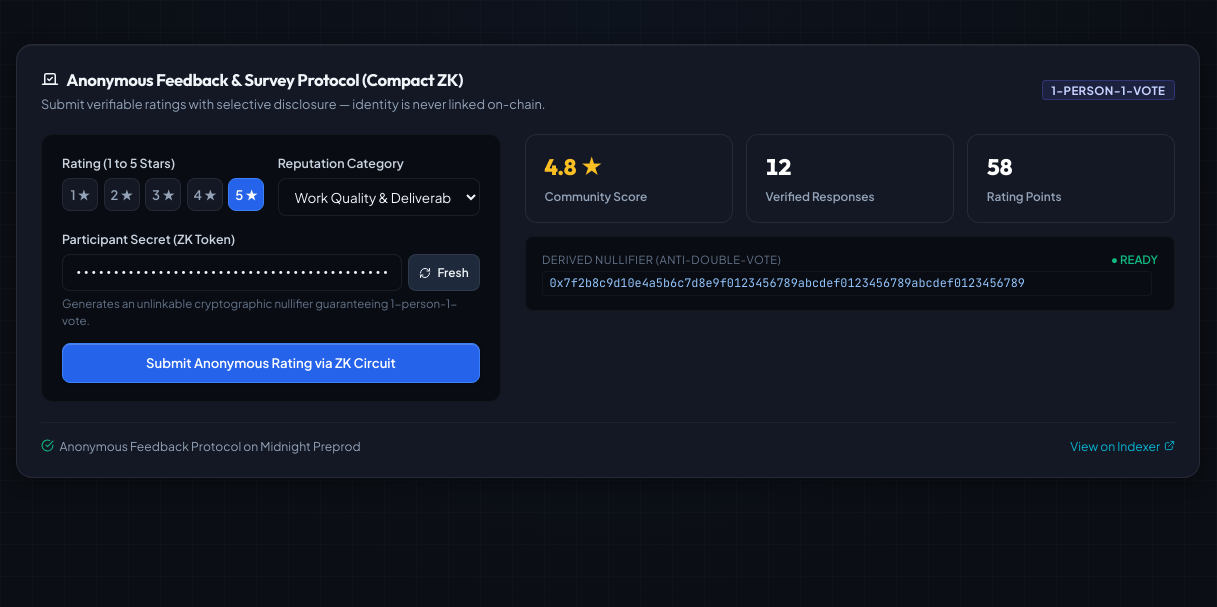
Test: MidnightFeedbackPanel › renders feedback protocol and allows submitting rating with nullifier tracking
Check: the text "Anonymous Feedback & Survey Protocol (Compact ZK)" is shown, box [66,67,463,92]
Click the button "Submit Anonymous Rating via ZK Circuit": (271, 363) [62,343,480,383]
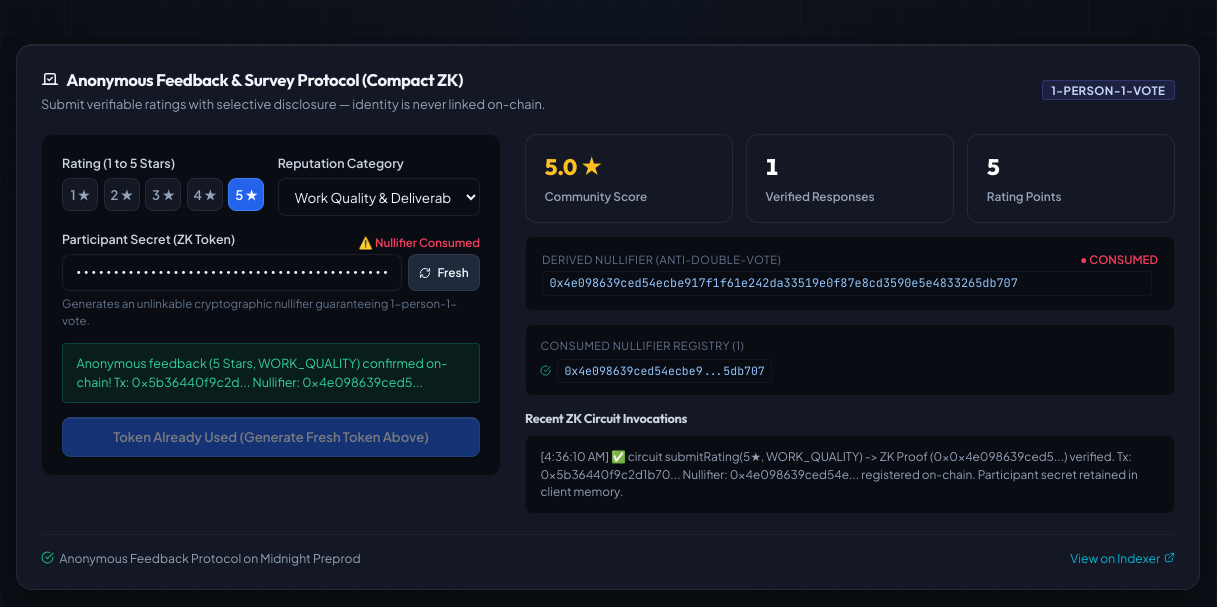
Check: the text "Anonymous feedback (5 Stars, WORK_QUALITY) confirmed on-chain!" is shown, box [77,356,447,390]
